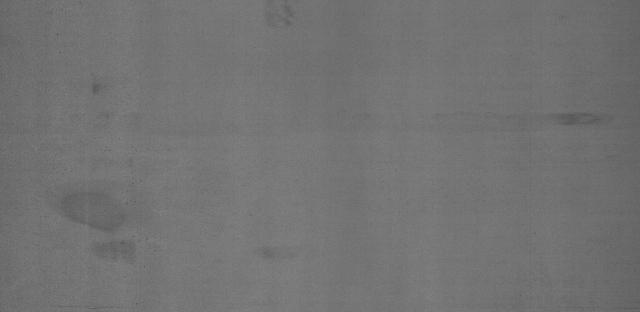oil_spot: (48, 171, 145, 268), (527, 99, 602, 131)
water_spot: (254, 2, 318, 32)
